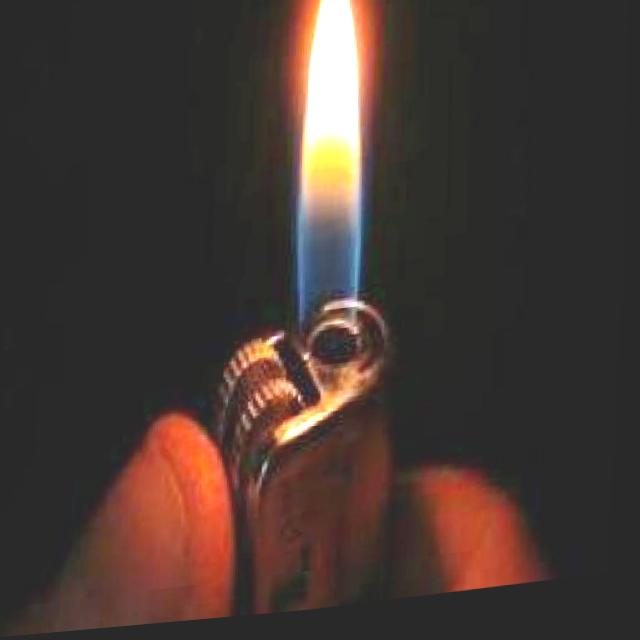helmet: (287, 0, 376, 334)
